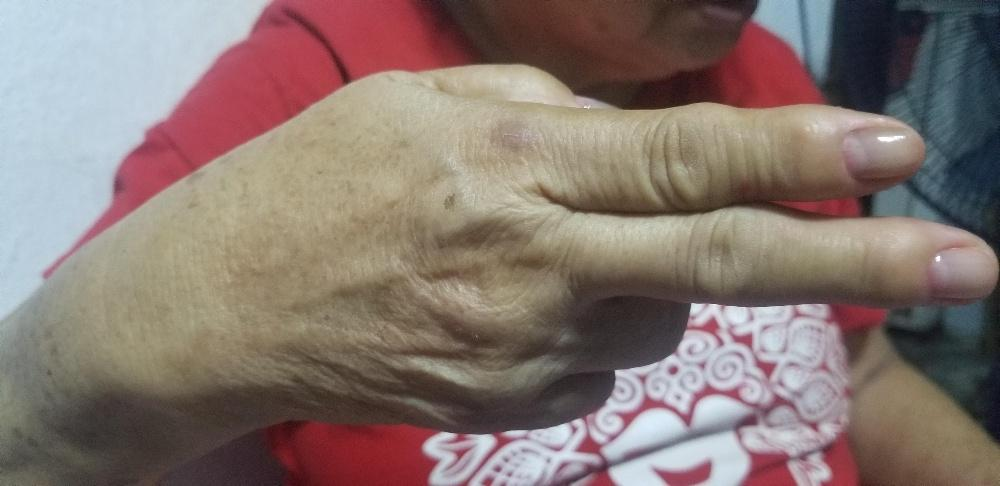h: (283, 59, 999, 437)
